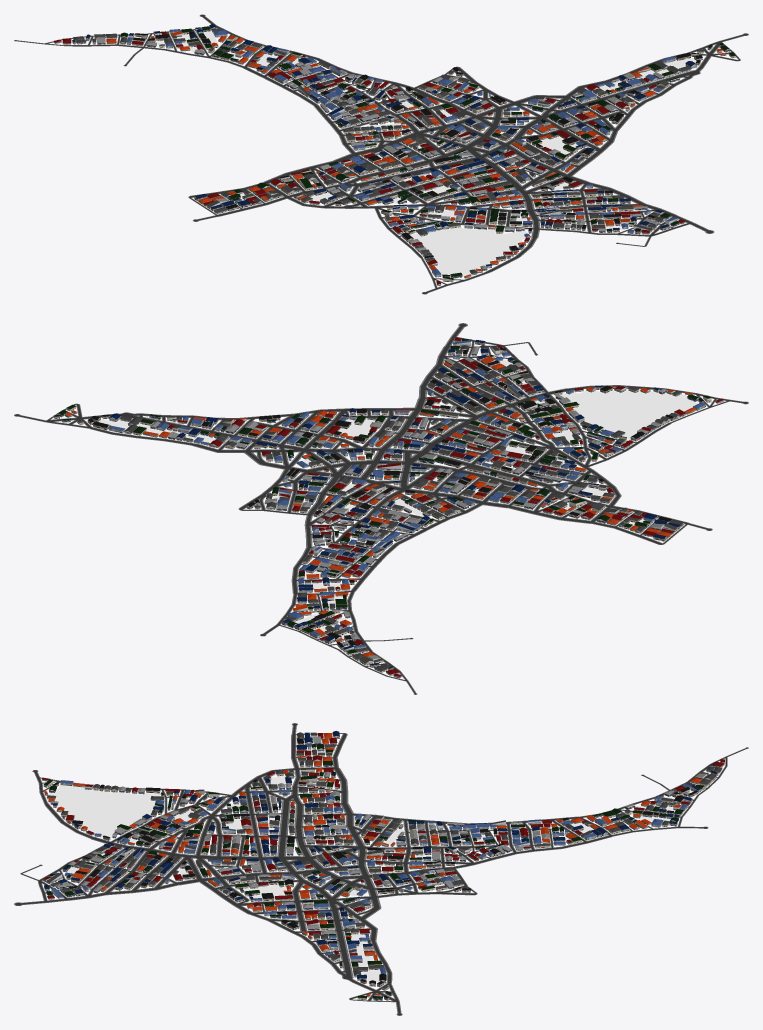
The picture shows the model from 3 angles, top to bottom: view 1: azimuth 30°, elevation 25°; view 2: azimuth 150°, elevation 25°; view 3: azimuth 270°, elevation 25°; orthographic projection. The views are drawn at different scales.
Visible parts, largest first — view 1: CityEngineMaterial_m, CityEngineMaterial_1_m, CityEngineShapeMaterial_m, CityEngineMaterial_7_m, CityEngineMaterial_17_m, CityEngineMaterial_8_m, CityEngineMaterial_13_m, CityEngineMaterial_5_m, CityEngineMaterial_3_m, CityEngineMaterial_6_m, CityEngineMaterial_14_m, CityEngineMaterial_16_m (+7 smaller); view 2: CityEngineMaterial_m, CityEngineMaterial_1_m, CityEngineShapeMaterial_m, CityEngineMaterial_7_m, CityEngineMaterial_8_m, CityEngineMaterial_17_m, CityEngineMaterial_13_m, CityEngineMaterial_16_m, CityEngineMaterial_6_m, CityEngineMaterial_5_m, CityEngineMaterial_3_m, CityEngineMaterial_14_m (+7 smaller); view 3: CityEngineMaterial_m, CityEngineMaterial_1_m, CityEngineShapeMaterial_m, CityEngineMaterial_17_m, CityEngineMaterial_13_m, CityEngineMaterial_8_m, CityEngineMaterial_16_m, CityEngineMaterial_3_m, CityEngineMaterial_6_m, CityEngineMaterial_7_m, CityEngineMaterial_14_m, CityEngineMaterial_10_m (+7 smaller).
Part boxes in pixels (<box>): CityEngineMaterial_m: <box>15,15,747,293</box>; CityEngineMaterial_1_m: <box>14,14,748,294</box>; CityEngineShapeMaterial_m: <box>134,31,696,276</box>; CityEngineMaterial_7_m: <box>126,31,697,277</box>; CityEngineMaterial_17_m: <box>54,31,685,284</box>; CityEngineMaterial_8_m: <box>72,24,696,266</box>; CityEngineMaterial_13_m: <box>126,29,677,274</box>; CityEngineMaterial_5_m: <box>92,30,735,282</box>; CityEngineMaterial_3_m: <box>73,36,691,273</box>; CityEngineMaterial_6_m: <box>120,26,735,279</box>; CityEngineMaterial_14_m: <box>92,28,703,261</box>; CityEngineMaterial_16_m: <box>106,31,726,277</box>; CityEngineMaterial_m: <box>15,323,747,694</box>; CityEngineMaterial_1_m: <box>14,323,748,694</box>; CityEngineShapeMaterial_m: <box>99,360,697,646</box>; CityEngineMaterial_7_m: <box>108,344,705,652</box>; CityEngineMaterial_8_m: <box>109,340,680,668</box>; CityEngineMaterial_17_m: <box>167,337,723,676</box>; CityEngineMaterial_13_m: <box>108,340,705,647</box>; CityEngineMaterial_16_m: <box>65,356,695,657</box>; CityEngineMaterial_6_m: <box>57,338,710,653</box>; CityEngineMaterial_5_m: <box>66,352,711,665</box>; CityEngineMaterial_3_m: <box>120,345,683,670</box>; CityEngineMaterial_14_m: <box>77,349,679,663</box>; CityEngineMaterial_m: <box>15,723,747,1015</box>; CityEngineMaterial_1_m: <box>14,723,748,1015</box>; CityEngineShapeMaterial_m: <box>49,750,692,983</box>; CityEngineMaterial_17_m: <box>42,733,724,955</box>; CityEngineMaterial_13_m: <box>51,743,691,973</box>; CityEngineMaterial_8_m: <box>44,731,717,978</box>; CityEngineMaterial_16_m: <box>44,733,702,995</box>; CityEngineMaterial_3_m: <box>46,732,722,975</box>; CityEngineMaterial_6_m: <box>44,743,704,998</box>; CityEngineMaterial_7_m: <box>51,747,700,980</box>; CityEngineMaterial_14_m: <box>61,732,716,988</box>; CityEngineMaterial_10_m: <box>50,736,706,961</box>.
Bounding box in the file's own units: 2290 × 20.13 × 2430.
